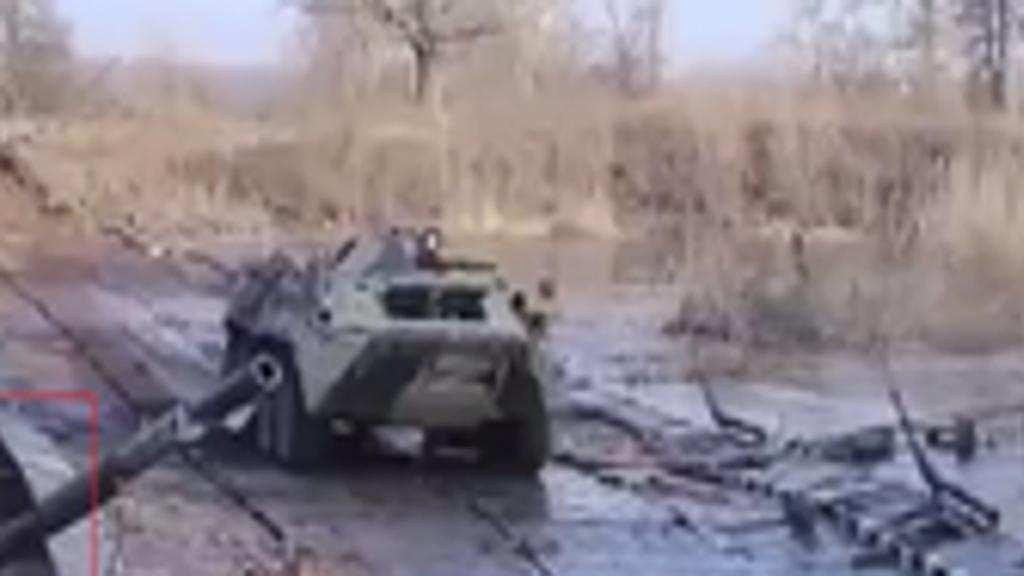APC-IFV: (208, 214, 554, 486)
